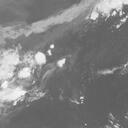cyclone: (22, 49, 62, 83)
